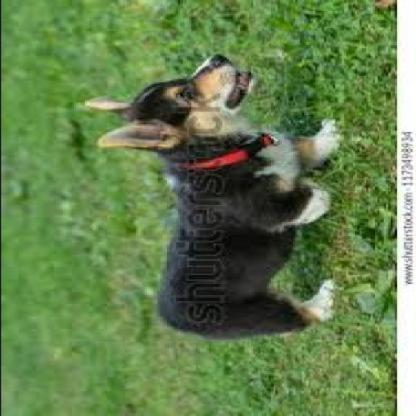dog: (82, 53, 341, 338)
